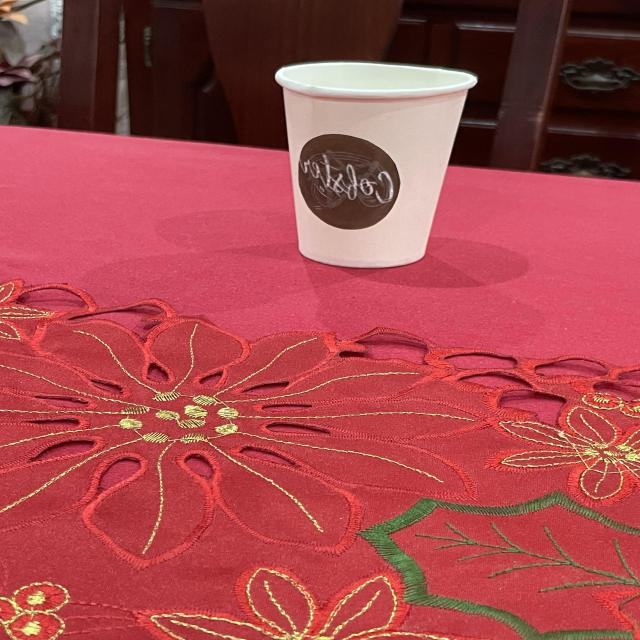medium: (257, 56, 487, 275)
